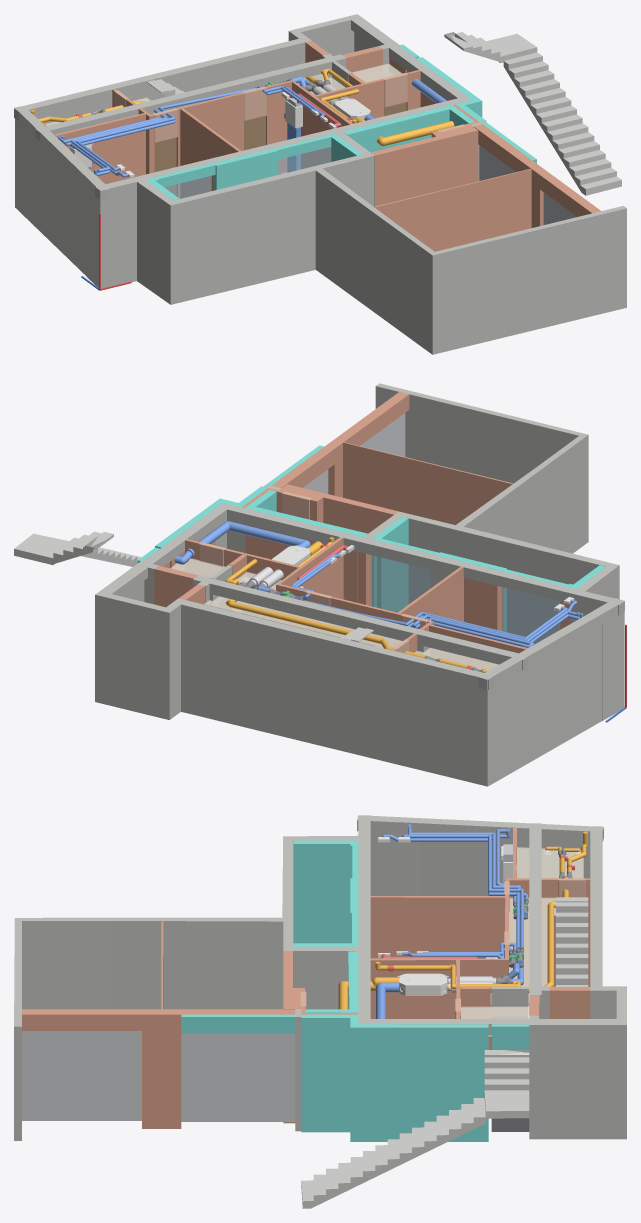
The model's file is HouseEM_AR_BS_open.glb.
3 views of the same model, one above another, from view 1: azimuth 30°, elevation 25°; view 2: azimuth 150°, elevation 25°; view 3: azimuth 270°, elevation 25° (orthographic). The views are drawn at different scales.
Parts seen in each view (by area): view 1: BS-RCW01, BS-RCW04, BS-RCW02, BS-INTW22, BS-ST02, BS-RCW09, BS-RCW08, BS-INTW21, BS-BEAM05, BS-INTW08, BS-COL03, BS-COL07 (+51 smaller); view 2: BS-RCW05, BS-COL07, BS-RCW01, BS-RCW04, BS-RCW02, BS-INTW22, BS-RCW08, BS-RCW06, BS-COL08, BS-BEAM02, BS-BEAM05, BS-BEAM08 (+42 smaller); view 3: BS-RCW02, BS-ET01, BS-COL07, BS-GD02, BS-GD01, BS-INTW09, BS-ET06, BS-ET03, BS-RCW08, BS-ST02, BS-BW01, BS-RCW03 (+38 smaller).
Boxes of the visible parts, left/top/right/bottom form: BS-RCW01: left=429, top=206, right=626, bottom=354; BS-RCW04: left=174, top=154, right=367, bottom=302; BS-RCW02: left=315, top=169, right=434, bottom=351; BS-INTW22: left=374, top=168, right=531, bottom=251; BS-ST02: left=503, top=52, right=621, bottom=195; BS-RCW09: left=137, top=179, right=178, bottom=304; BS-RCW08: left=40, top=143, right=86, bottom=275; BS-INTW21: left=371, top=136, right=439, bottom=206; BS-BEAM05: left=97, top=37, right=311, bottom=95; BS-INTW08: left=54, top=113, right=145, bottom=184; BS-COL03: left=86, top=175, right=113, bottom=288; BS-COL07: left=288, top=14, right=399, bottom=78; BS-RCW05: left=184, top=616, right=385, bottom=761; BS-COL07: left=95, top=561, right=188, bottom=719; BS-RCW01: left=375, top=383, right=588, bottom=543; BS-RCW04: left=402, top=513, right=610, bottom=643; BS-RCW02: left=456, top=436, right=585, bottom=553; BS-INTW22: left=343, top=442, right=513, bottom=524; BS-RCW08: left=529, top=624, right=601, bottom=762; BS-RCW06: left=405, top=669, right=454, bottom=778; BS-COL08: left=454, top=667, right=495, bottom=786; BS-BEAM02: left=217, top=503, right=469, bottom=571; BS-BEAM05: left=173, top=599, right=407, bottom=667; BS-BEAM08: left=193, top=575, right=424, bottom=643; BS-RCW02: left=22, top=917, right=282, bottom=1009; BS-ET01: left=350, top=1024, right=488, bottom=1141; BS-COL07: left=529, top=984, right=626, bottom=1139; BS-GD02: left=22, top=1031, right=141, bottom=1120; BS-GD01: left=181, top=1033, right=295, bottom=1121; BS-INTW09: left=370, top=896, right=504, bottom=958; BS-ET06: left=293, top=840, right=358, bottom=943; BS-ET03: left=301, top=1014, right=358, bottom=1132; BS-RCW08: left=397, top=833, right=529, bottom=895; BS-ST02: left=301, top=1098, right=485, bottom=1208; BS-BW01: left=142, top=1009, right=181, bottom=1128; BS-RCW03: left=283, top=946, right=358, bottom=1009.
Size of the model in its own units: 16.28 by 3.1 by 15.06.
